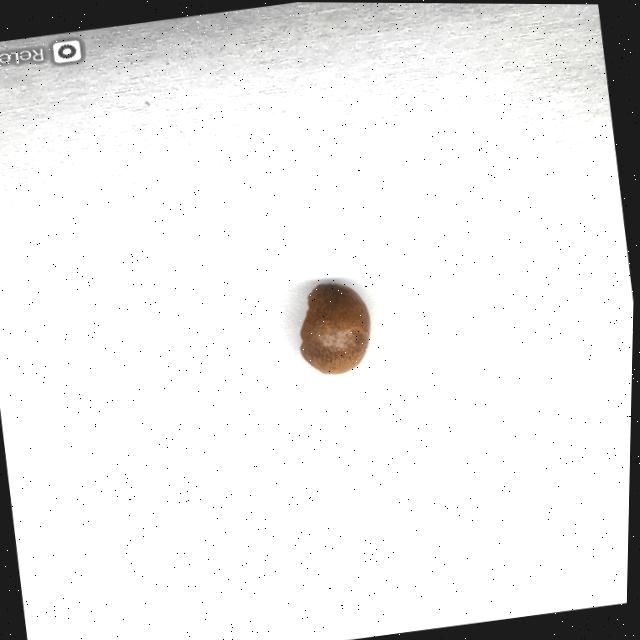Broken: (293, 277, 380, 380)
